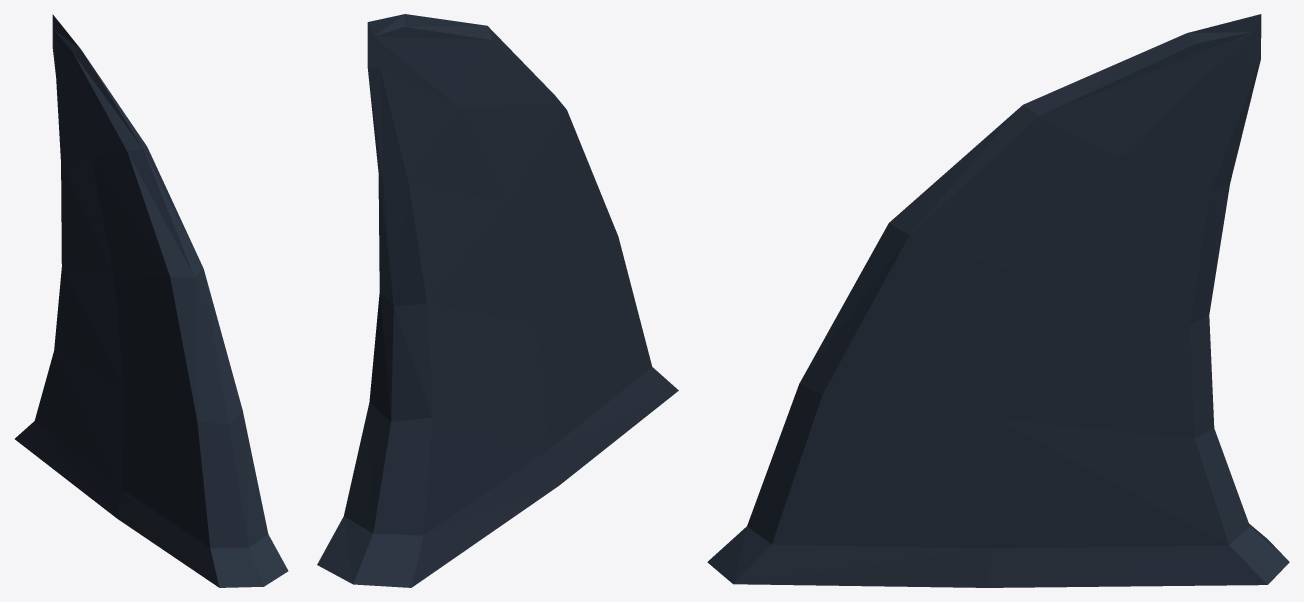
Rendered from shark.glb.
3 views of the same model, side by side, from view 1: azimuth 30°, elevation 25°; view 2: azimuth 150°, elevation 25°; view 3: azimuth 270°, elevation 25° (orthographic). The views are drawn at different scales.
Parts seen in each view (by area): view 1: shark:Node; view 2: shark:Node; view 3: shark:Node.
Boxes of the visible parts, x1=… form: shark:Node: x1=15, y1=14, x2=288, y2=587; shark:Node: x1=317, y1=14, x2=678, y2=587; shark:Node: x1=707, y1=14, x2=1289, y2=587.
Bounding box in the file's own units: 0.3024 × 1.5 × 1.44.
